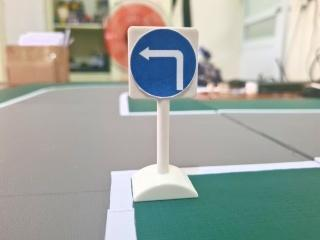left: (128, 27, 198, 99)
